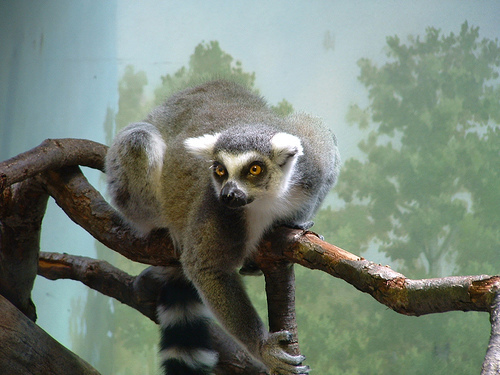cat: (105, 77, 337, 374)
